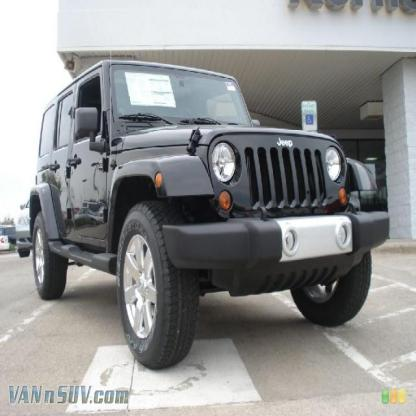Vehicle: (25, 52, 393, 374)
